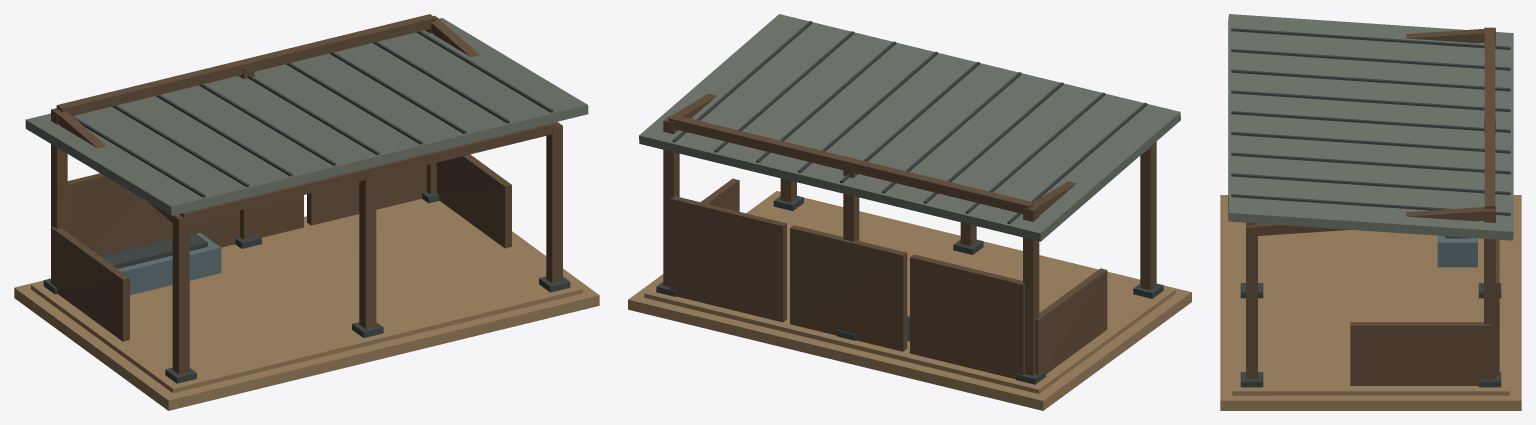
File: Livestock-Shelter.glb
3 views of the same model, side by side, from view 1: azimuth 30°, elevation 25°; view 2: azimuth 150°, elevation 25°; view 3: azimuth 270°, elevation 25° (orthographic). The views are drawn at different scales.
Visible parts, largest first — view 1: livestock-shelter-static-livestock-shelter-compacted-earth-m, livestock-shelter-static-livestock-shelter-sage-galvanized-r, livestock-shelter-static-livestock-shelter-weathered-timber-, livestock-shelter-static-livestock-shelter-dark-anchor-iron-, livestock-shelter-static-livestock-shelter-blue-grey-trough-; view 2: livestock-shelter-static-livestock-shelter-sage-galvanized-r, livestock-shelter-static-livestock-shelter-weathered-timber-, livestock-shelter-static-livestock-shelter-compacted-earth-m, livestock-shelter-static-livestock-shelter-dark-anchor-iron-; view 3: livestock-shelter-static-livestock-shelter-sage-galvanized-r, livestock-shelter-static-livestock-shelter-compacted-earth-m, livestock-shelter-static-livestock-shelter-weathered-timber-, livestock-shelter-static-livestock-shelter-dark-anchor-iron-, livestock-shelter-static-livestock-shelter-blue-grey-trough-.
Part boxes in pixels (left/top/right/bottom): livestock-shelter-static-livestock-shelter-compacted-earth-m: left=14, top=198, right=599, bottom=410; livestock-shelter-static-livestock-shelter-sage-galvanized-r: left=25, top=18, right=588, bottom=215; livestock-shelter-static-livestock-shelter-weathered-timber-: left=51, top=14, right=562, bottom=374; livestock-shelter-static-livestock-shelter-dark-anchor-iron-: left=43, top=31, right=570, bottom=383; livestock-shelter-static-livestock-shelter-blue-grey-trough-: left=118, top=232, right=221, bottom=295; livestock-shelter-static-livestock-shelter-sage-galvanized-r: left=639, top=14, right=1180, bottom=241; livestock-shelter-static-livestock-shelter-weathered-timber-: left=663, top=93, right=1156, bottom=379; livestock-shelter-static-livestock-shelter-compacted-earth-m: left=628, top=191, right=1191, bottom=410; livestock-shelter-static-livestock-shelter-dark-anchor-iron-: left=656, top=21, right=1163, bottom=384; livestock-shelter-static-livestock-shelter-sage-galvanized-r: left=1228, top=14, right=1513, bottom=240; livestock-shelter-static-livestock-shelter-compacted-earth-m: left=1220, top=195, right=1521, bottom=410; livestock-shelter-static-livestock-shelter-weathered-timber-: left=1246, top=27, right=1499, bottom=385; livestock-shelter-static-livestock-shelter-dark-anchor-iron-: left=1231, top=28, right=1510, bottom=387; livestock-shelter-static-livestock-shelter-blue-grey-trough-: left=1437, top=235, right=1477, bottom=267.
Bounding box in the file's own units: 6.05 × 2.7 × 3.75.
